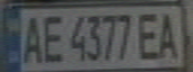3: (84, 11, 103, 62)
4: (63, 11, 87, 62)
7: (100, 10, 121, 61), (115, 10, 136, 61)
A: (154, 8, 184, 61), (18, 11, 45, 64)
E: (39, 11, 66, 64), (136, 9, 163, 61)
